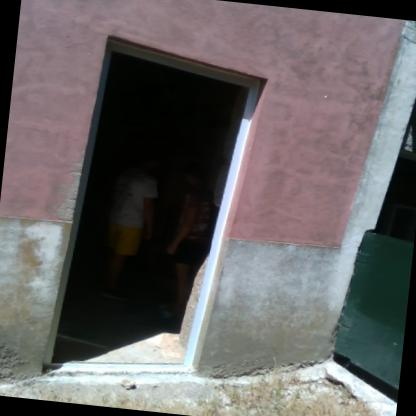open: (47, 34, 276, 388)
